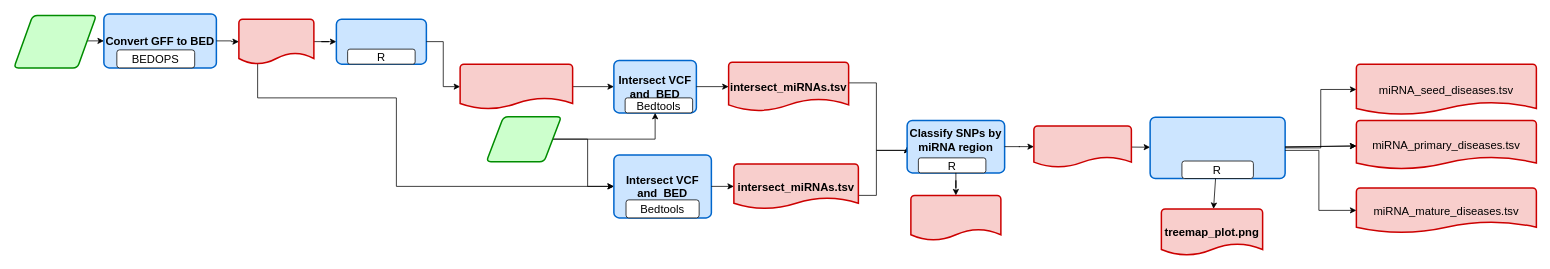
The diagram is 1550 pixels wide and 269 high, and some of its shapes have lost their labels. The box of each missing label's shape, as (x1, y1, x2, y2) in pixels:
euler_plot.png: (910, 194, 1001, 241)
Extract HMDD v3.2 miRNA-disease association data: (1149, 116, 1286, 179)
Extract miRNA seeds: (335, 18, 427, 64)
miRNA coordinates GFF: (13, 14, 97, 68)
miRNA.bed: (238, 18, 314, 64)
miRNA.seed.bed: (459, 63, 573, 110)
miRNA_SNPs.tsv: (1033, 125, 1132, 168)
SNPs VCF: (485, 116, 562, 162)
